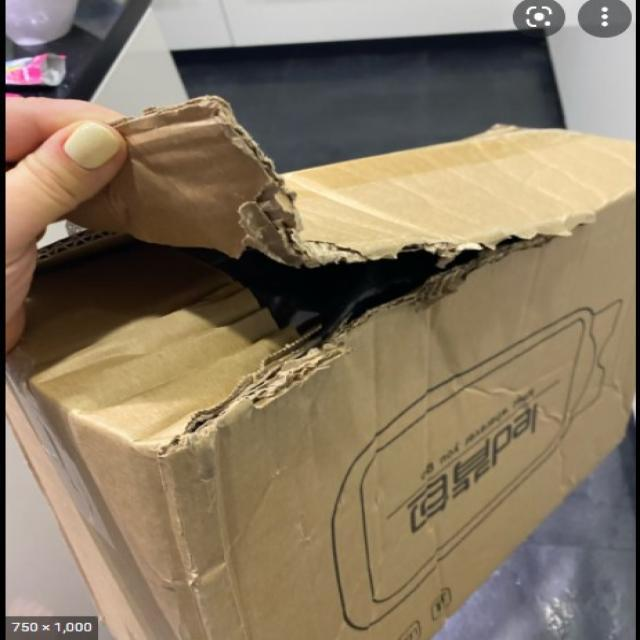hole: (222, 207, 580, 348)
